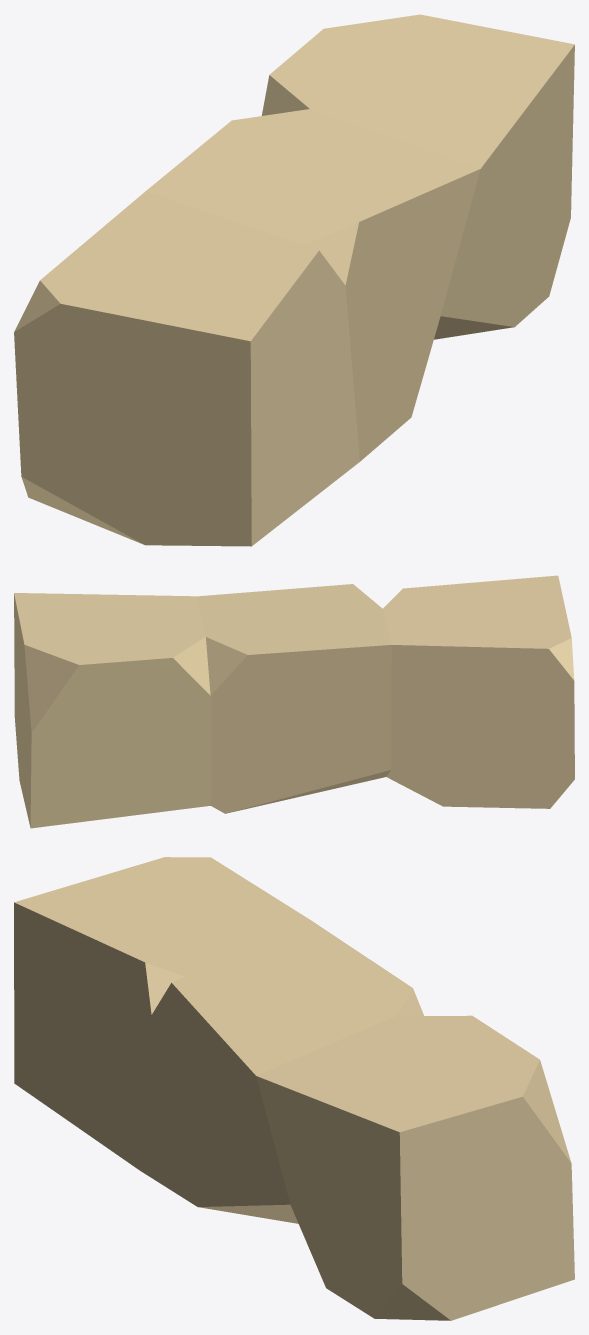
The model's file is downpillar.fbx.
3 renders of one model, top to bottom at view 1: azimuth 30°, elevation 25°; view 2: azimuth 150°, elevation 25°; view 3: azimuth 270°, elevation 25°, orthographic. The views are drawn at different scales.
Visible parts, largest first — view 1: DownPillar; view 2: DownPillar; view 3: DownPillar.
Boxes of the visible parts, left/top/right/bottom form: DownPillar: left=14, top=14, right=574, bottom=546; DownPillar: left=14, top=575, right=574, bottom=828; DownPillar: left=14, top=857, right=574, bottom=1320.
Size of the model in its own units: 1.35 by 0.4582 by 1.11.
